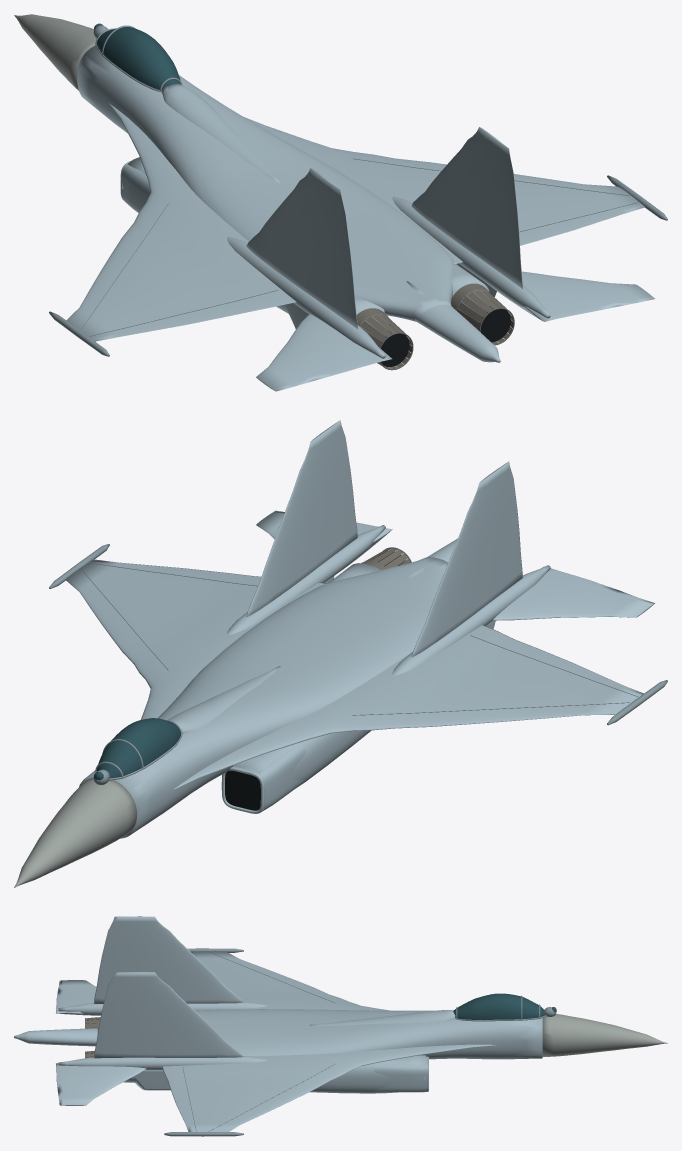
3 renders of one model, top to bottom at view 1: azimuth 30°, elevation 25°; view 2: azimuth 150°, elevation 25°; view 3: azimuth 270°, elevation 25°, orthographic. The views are drawn at different scales.
Visible parts, largest first — view 1: static.Su-27S satin paint, static.Light control panels, static.Tinted canopy, static.Dielectric nose, static.Heat-darkened exhaust metal, static.Canopy structural frame, static.Deep recess, static.Restrained panel seam; view 2: static.Su-27S satin paint, static.Light control panels, static.Dielectric nose, static.Tinted canopy, static.Canopy structural frame, static.Deep recess, static.Restrained panel seam, static.Heat-darkened exhaust metal; view 3: static.Su-27S satin paint, static.Light control panels, static.Dielectric nose, static.Tinted canopy, static.Canopy structural frame, static.Restrained panel seam.
Boxes of the visible parts, x1,y1,x2,y2 form: static.Su-27S satin paint: [66, 45, 645, 358]; static.Light control panels: [120, 160, 654, 391]; static.Tinted canopy: [94, 23, 180, 90]; static.Dielectric nose: [14, 14, 96, 90]; static.Heat-darkened exhaust metal: [356, 283, 514, 370]; static.Canopy structural frame: [49, 25, 667, 356]; static.Deep recess: [381, 307, 510, 366]; static.Restrained panel seam: [81, 158, 638, 336]; static.Su-27S satin paint: [65, 420, 643, 838]; static.Light control panels: [221, 510, 654, 813]; static.Dielectric nose: [14, 777, 136, 887]; static.Tinted canopy: [94, 718, 180, 780]; static.Canopy structural frame: [49, 544, 667, 784]; static.Deep recess: [225, 552, 405, 810]; static.Restrained panel seam: [81, 563, 637, 715]; static.Heat-darkened exhaust metal: [361, 547, 411, 569]; static.Su-27S satin paint: [58, 916, 542, 1131]; static.Light control panels: [14, 980, 428, 1105]; static.Dielectric nose: [542, 1014, 667, 1056]; static.Tinted canopy: [453, 993, 556, 1020]; static.Canopy structural frame: [164, 948, 556, 1136]; static.Restrained panel seam: [182, 951, 335, 1131].
Bounding box in the file's own units: 14.7 × 4.78 × 21.9.
